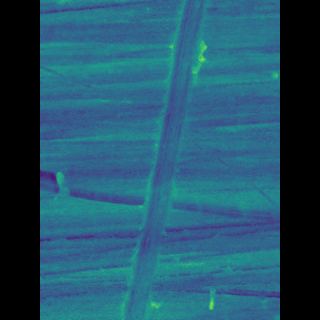Loch: (127, 0, 197, 320), (67, 166, 250, 231)
